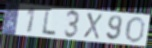1: (25, 7, 36, 35)
3: (63, 9, 81, 39)
9: (104, 14, 123, 42)
L: (41, 8, 57, 36)
O: (124, 16, 147, 44)
X: (82, 11, 103, 41)
